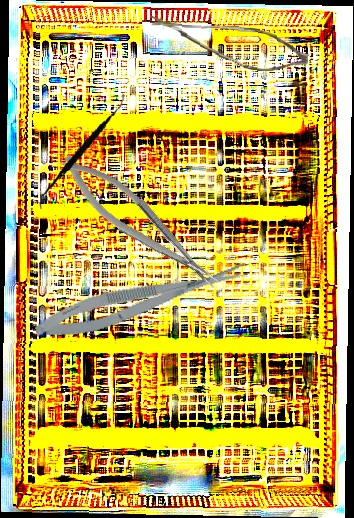Micro Scissor: (30, 255, 252, 348), (147, 15, 311, 74)
Needle Holder: (51, 141, 227, 305)
Spatula Surgical: (38, 85, 127, 218)
